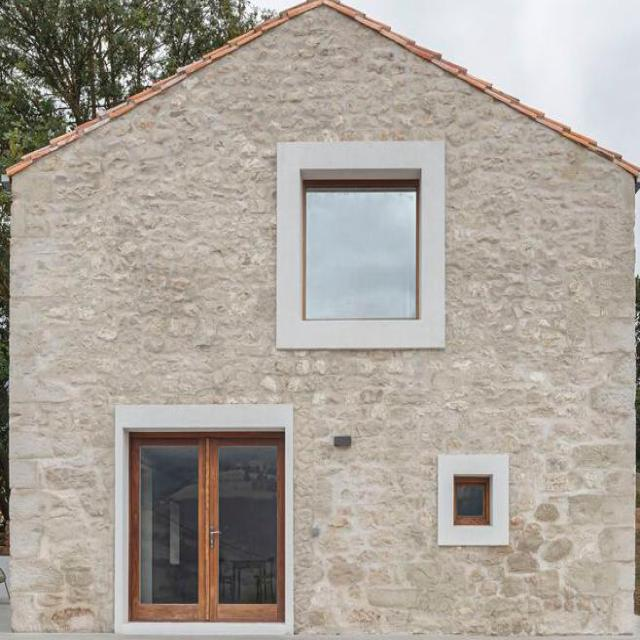door: (129, 429, 286, 625)
window: (305, 178, 419, 319), (456, 479, 492, 524)
